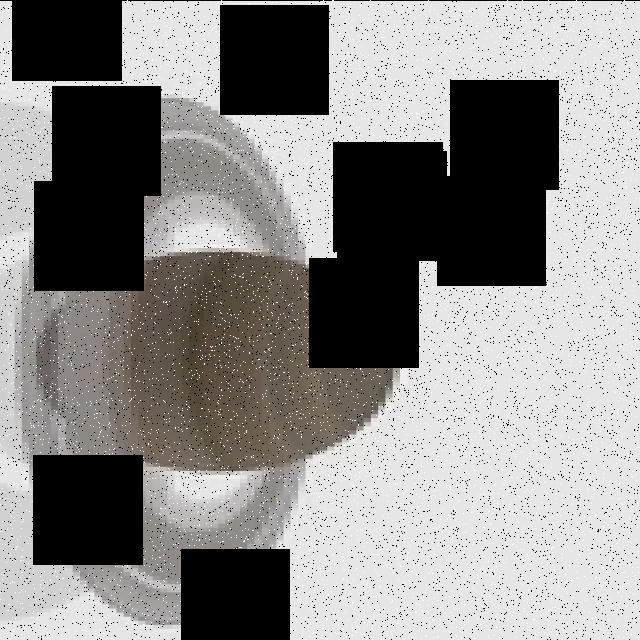Saturn: (10, 93, 403, 630)
